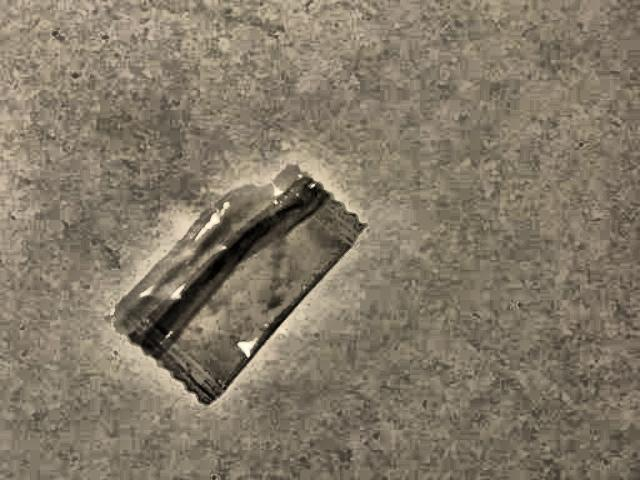Plastic: (113, 161, 366, 409)
